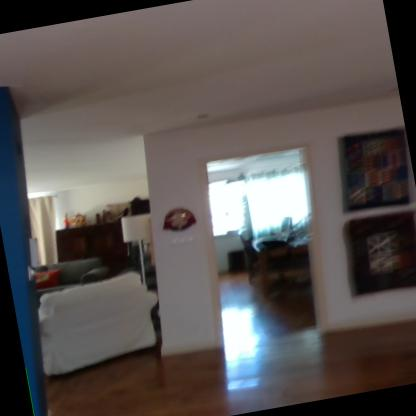open: (198, 131, 359, 381)
